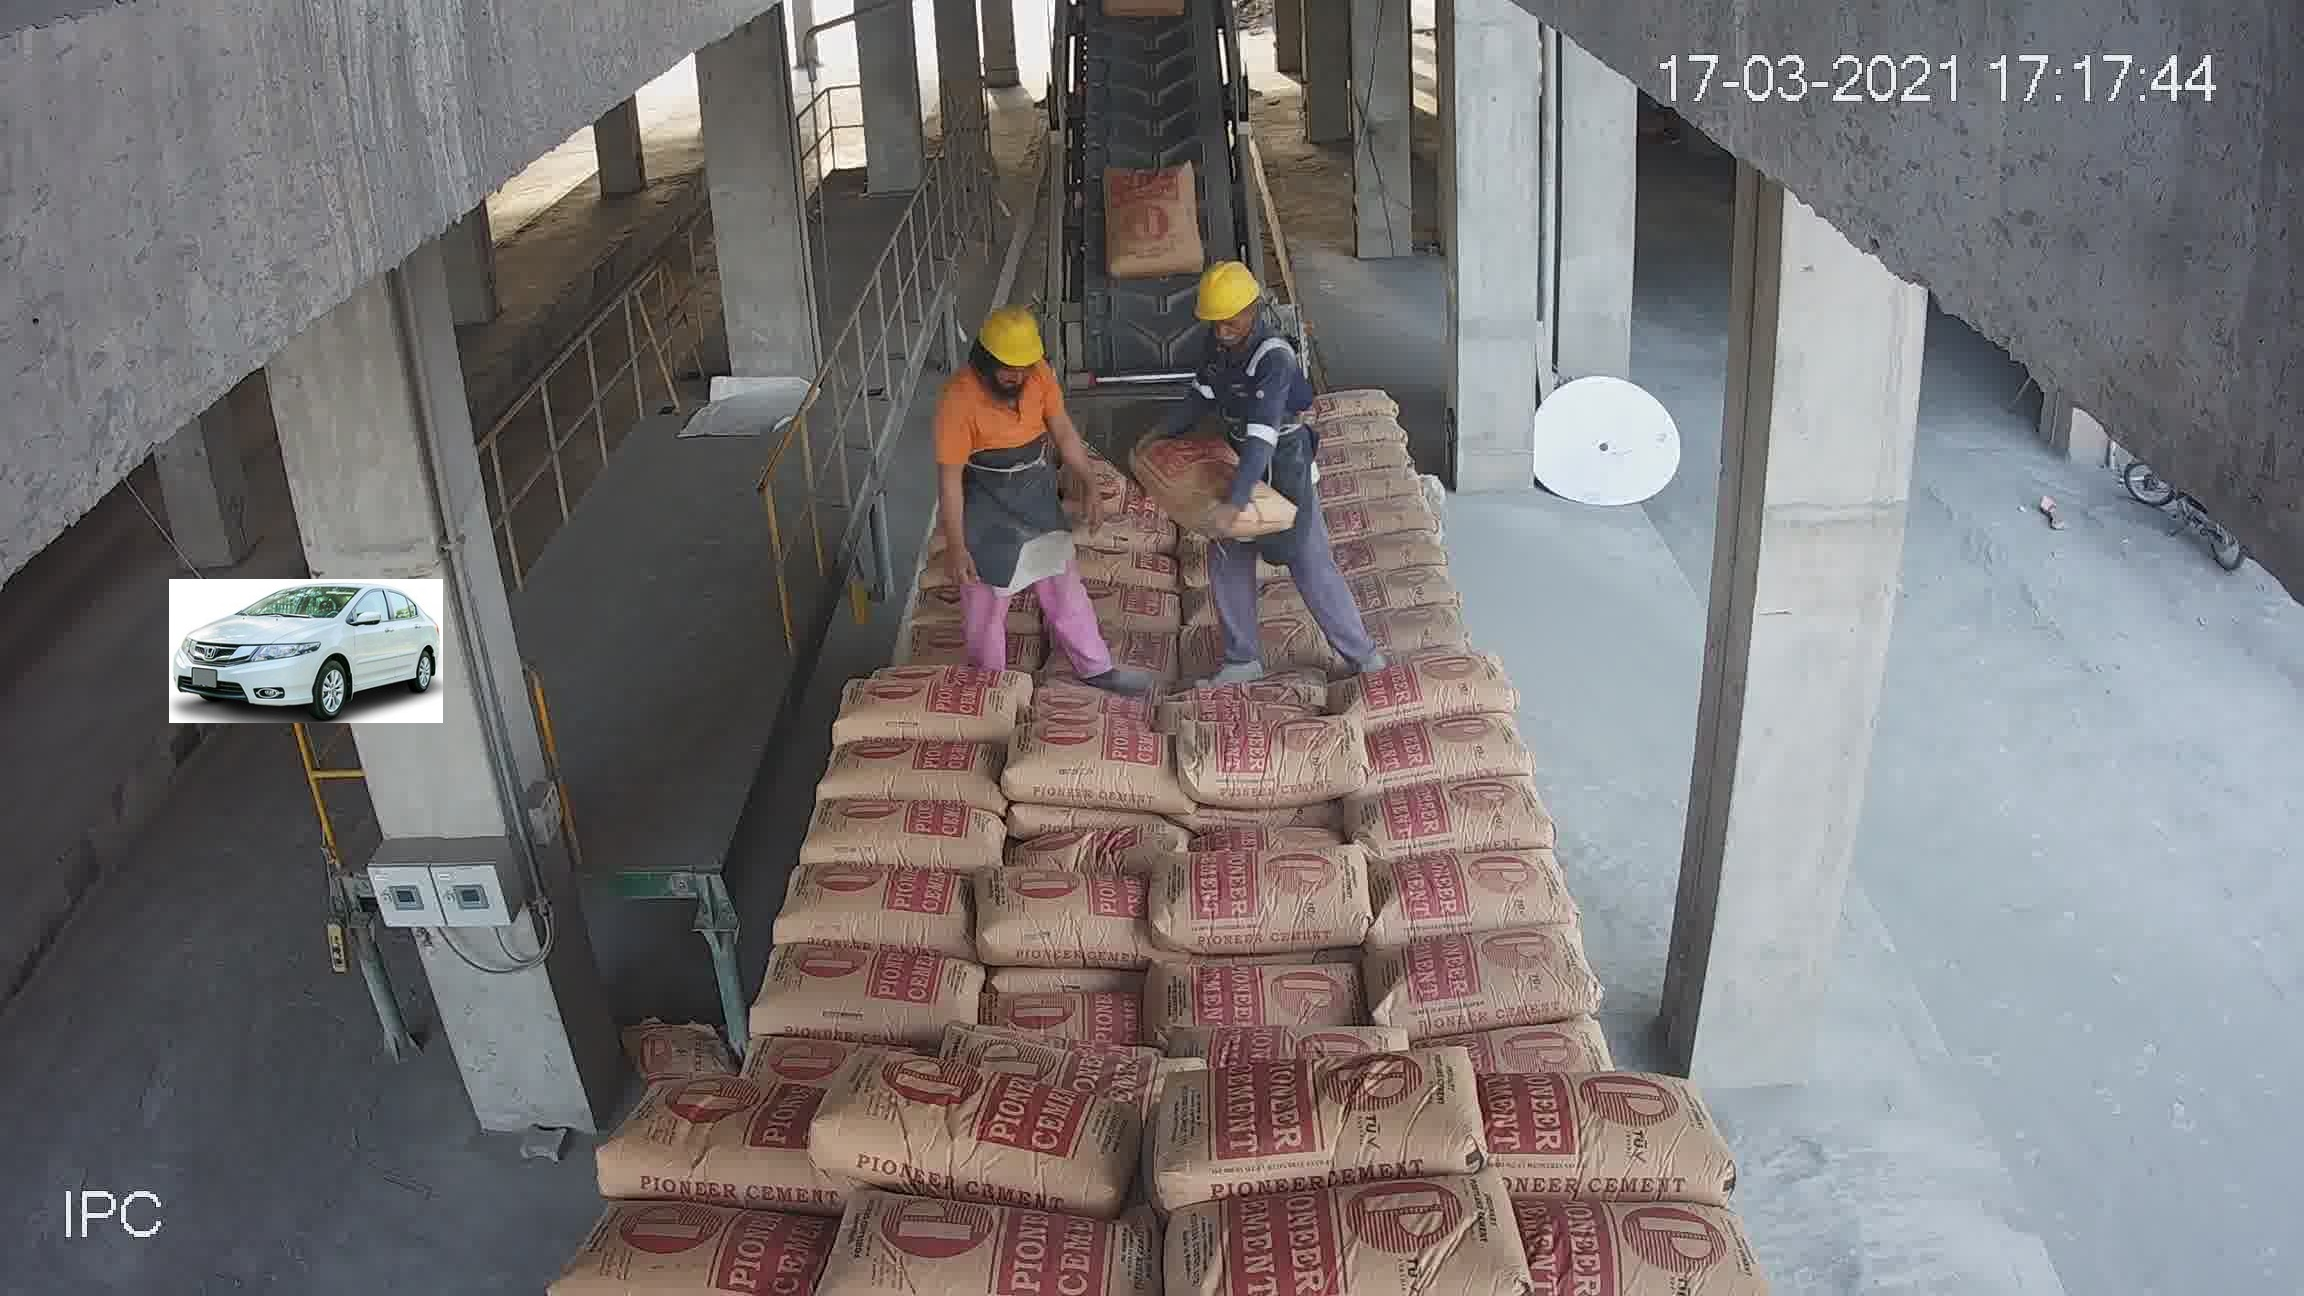bag: (1098, 172, 1199, 280)
bag_h: (801, 1065, 1124, 1214), (1180, 1052, 1491, 1198), (821, 1193, 1168, 1294), (1177, 1176, 1486, 1287), (1467, 1078, 1726, 1207), (1362, 916, 1603, 1041), (1514, 1177, 1771, 1283), (604, 1089, 810, 1214), (578, 1199, 832, 1294), (760, 861, 987, 957), (748, 949, 997, 1035), (1124, 366, 1285, 494), (1161, 848, 1374, 945), (1176, 709, 1370, 809), (1362, 850, 1571, 938), (1152, 961, 1364, 1046), (976, 877, 1154, 975), (1353, 774, 1551, 859), (1002, 717, 1179, 809), (801, 802, 1002, 878), (1013, 813, 1192, 892), (818, 733, 1008, 805), (1407, 1019, 1614, 1086), (1369, 704, 1529, 785), (839, 669, 1021, 736), (987, 984, 1160, 1054), (1347, 655, 1518, 723), (1326, 533, 1461, 592), (1074, 492, 1179, 563), (1038, 631, 1184, 680), (1312, 487, 1449, 536), (1347, 562, 1461, 620), (1081, 584, 1185, 638), (1078, 538, 1184, 590), (1309, 462, 1432, 506), (1301, 378, 1412, 426), (1298, 411, 1424, 453), (1309, 440, 1426, 484), (1356, 620, 1489, 657)
belt: (1035, 14, 1272, 418)
